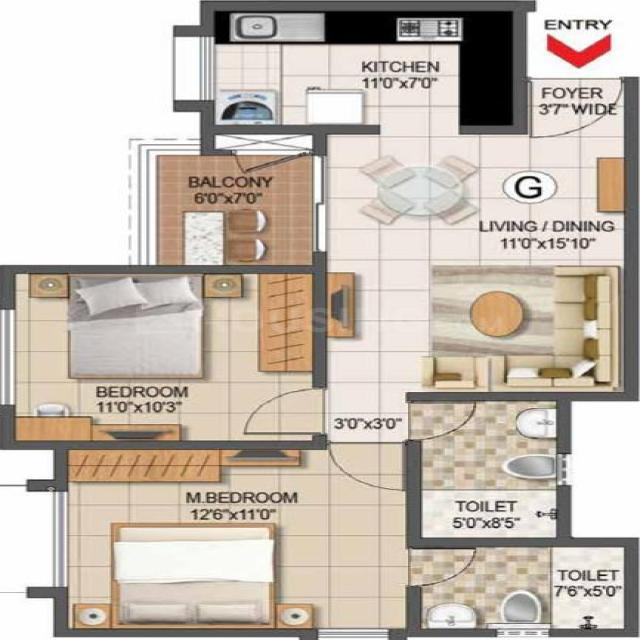Balcony-Sitout: (131, 145, 331, 276)
Bedroom: (3, 265, 329, 450)
Bedroom with Toilet: (54, 442, 640, 637)
Dining: (349, 151, 484, 235)
Enterance-Foyer: (534, 17, 638, 147)
Kitchen: (194, 0, 529, 135)
Living: (314, 270, 636, 399)
Toilet: (411, 396, 571, 545), (402, 540, 640, 637)
